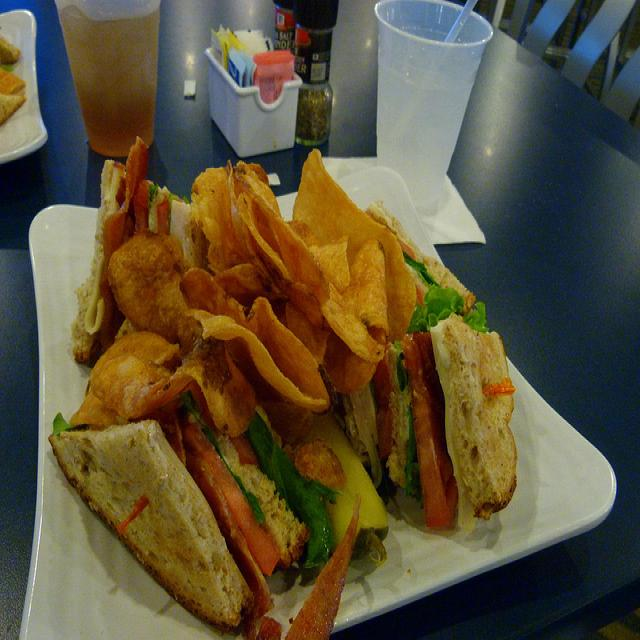dining table: (6, 13, 639, 621)
